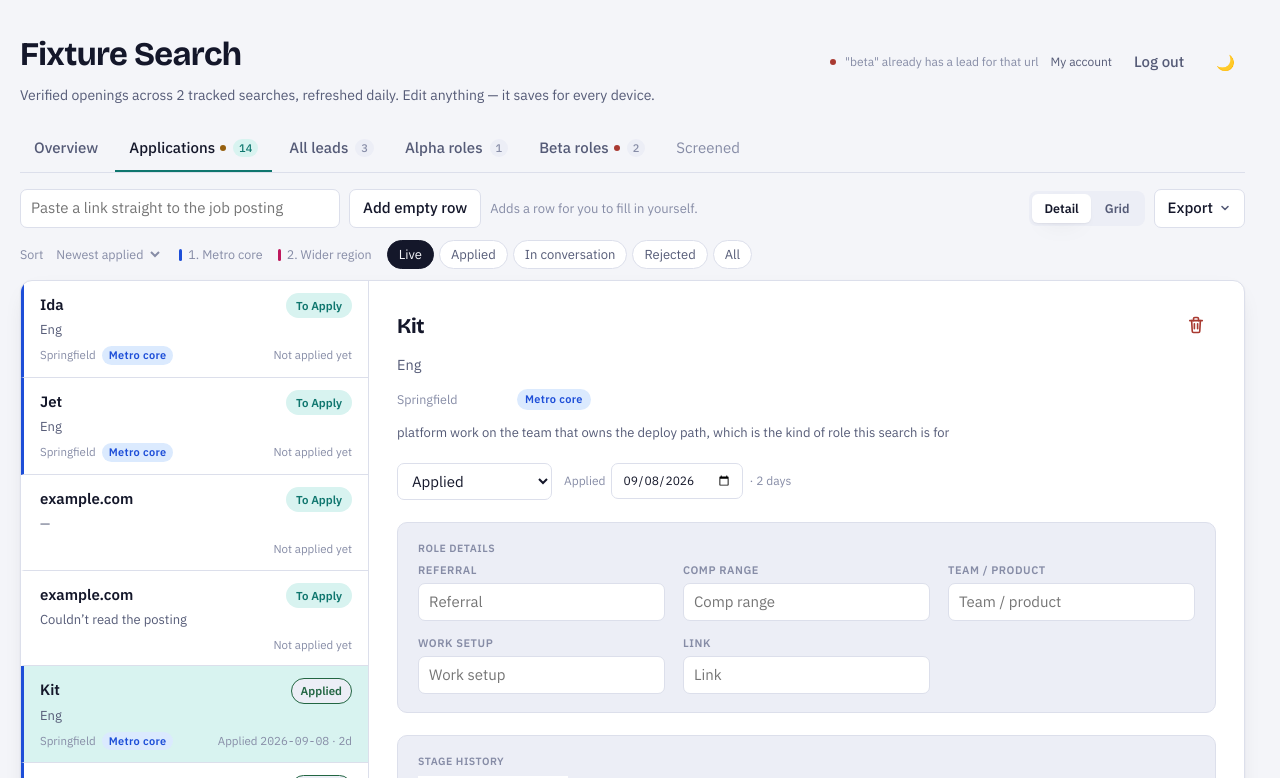
application status and the stage-date dialog › asks when a stage happened, instead of silently stamping today
The image size is (1280, 778).
Expected: the heading "Fixture Search" is shown, [20, 34, 241, 74]
Select "Tech Screen" in the dropdown named "Status" at (474, 481), box [397, 462, 552, 500]
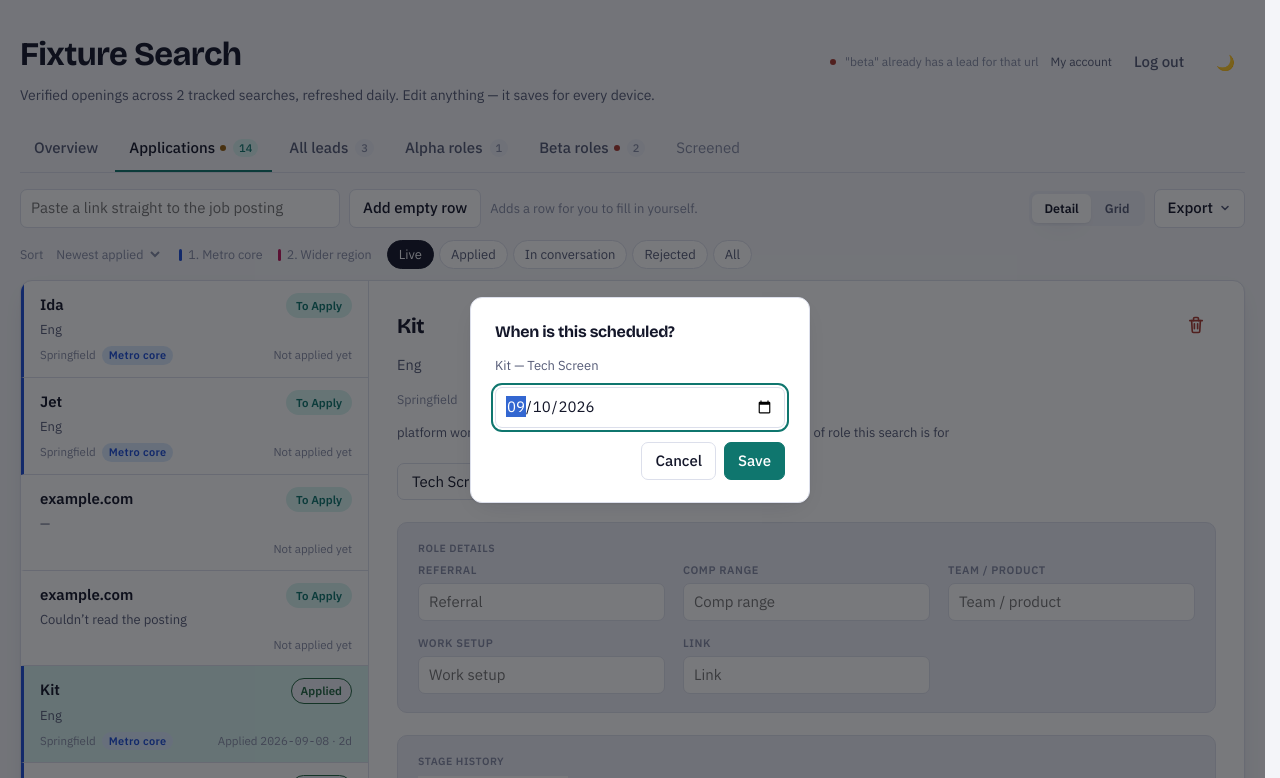
Expected: the dialog shows "When is this scheduled?", [495, 322, 674, 341]
